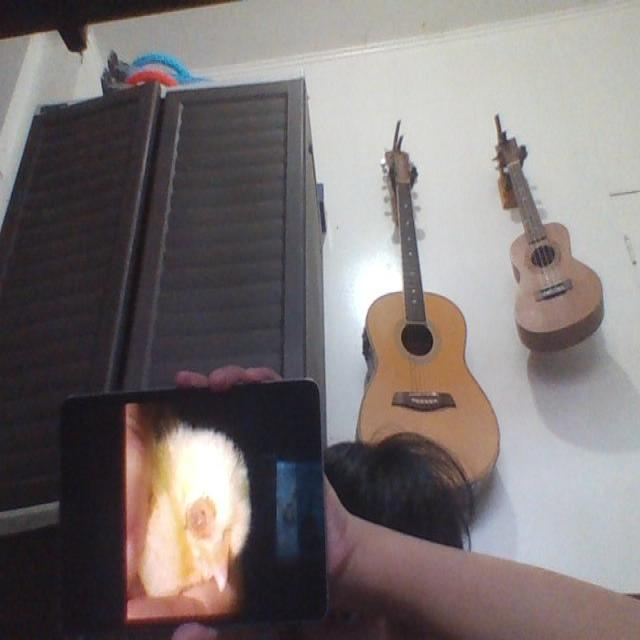Sick: (140, 425, 256, 601)
